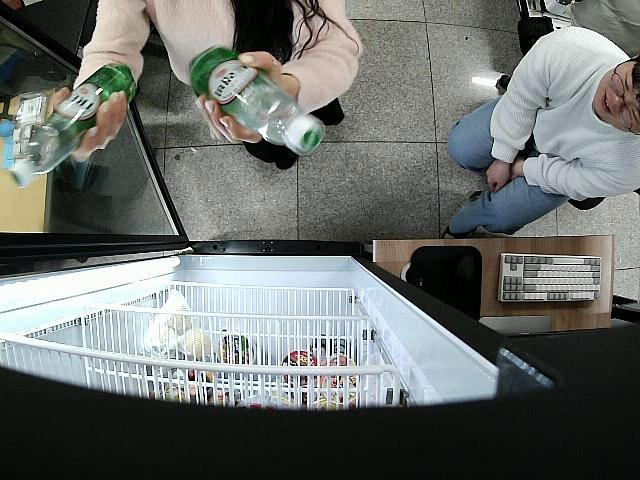00_hand: (195, 51, 291, 145), (50, 85, 129, 163)
18_trevi: (11, 64, 136, 189), (188, 45, 325, 157)
